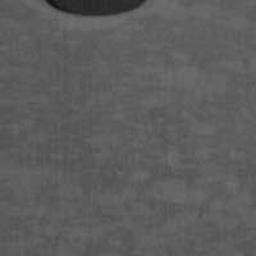Punching: (42, 0, 143, 18)
